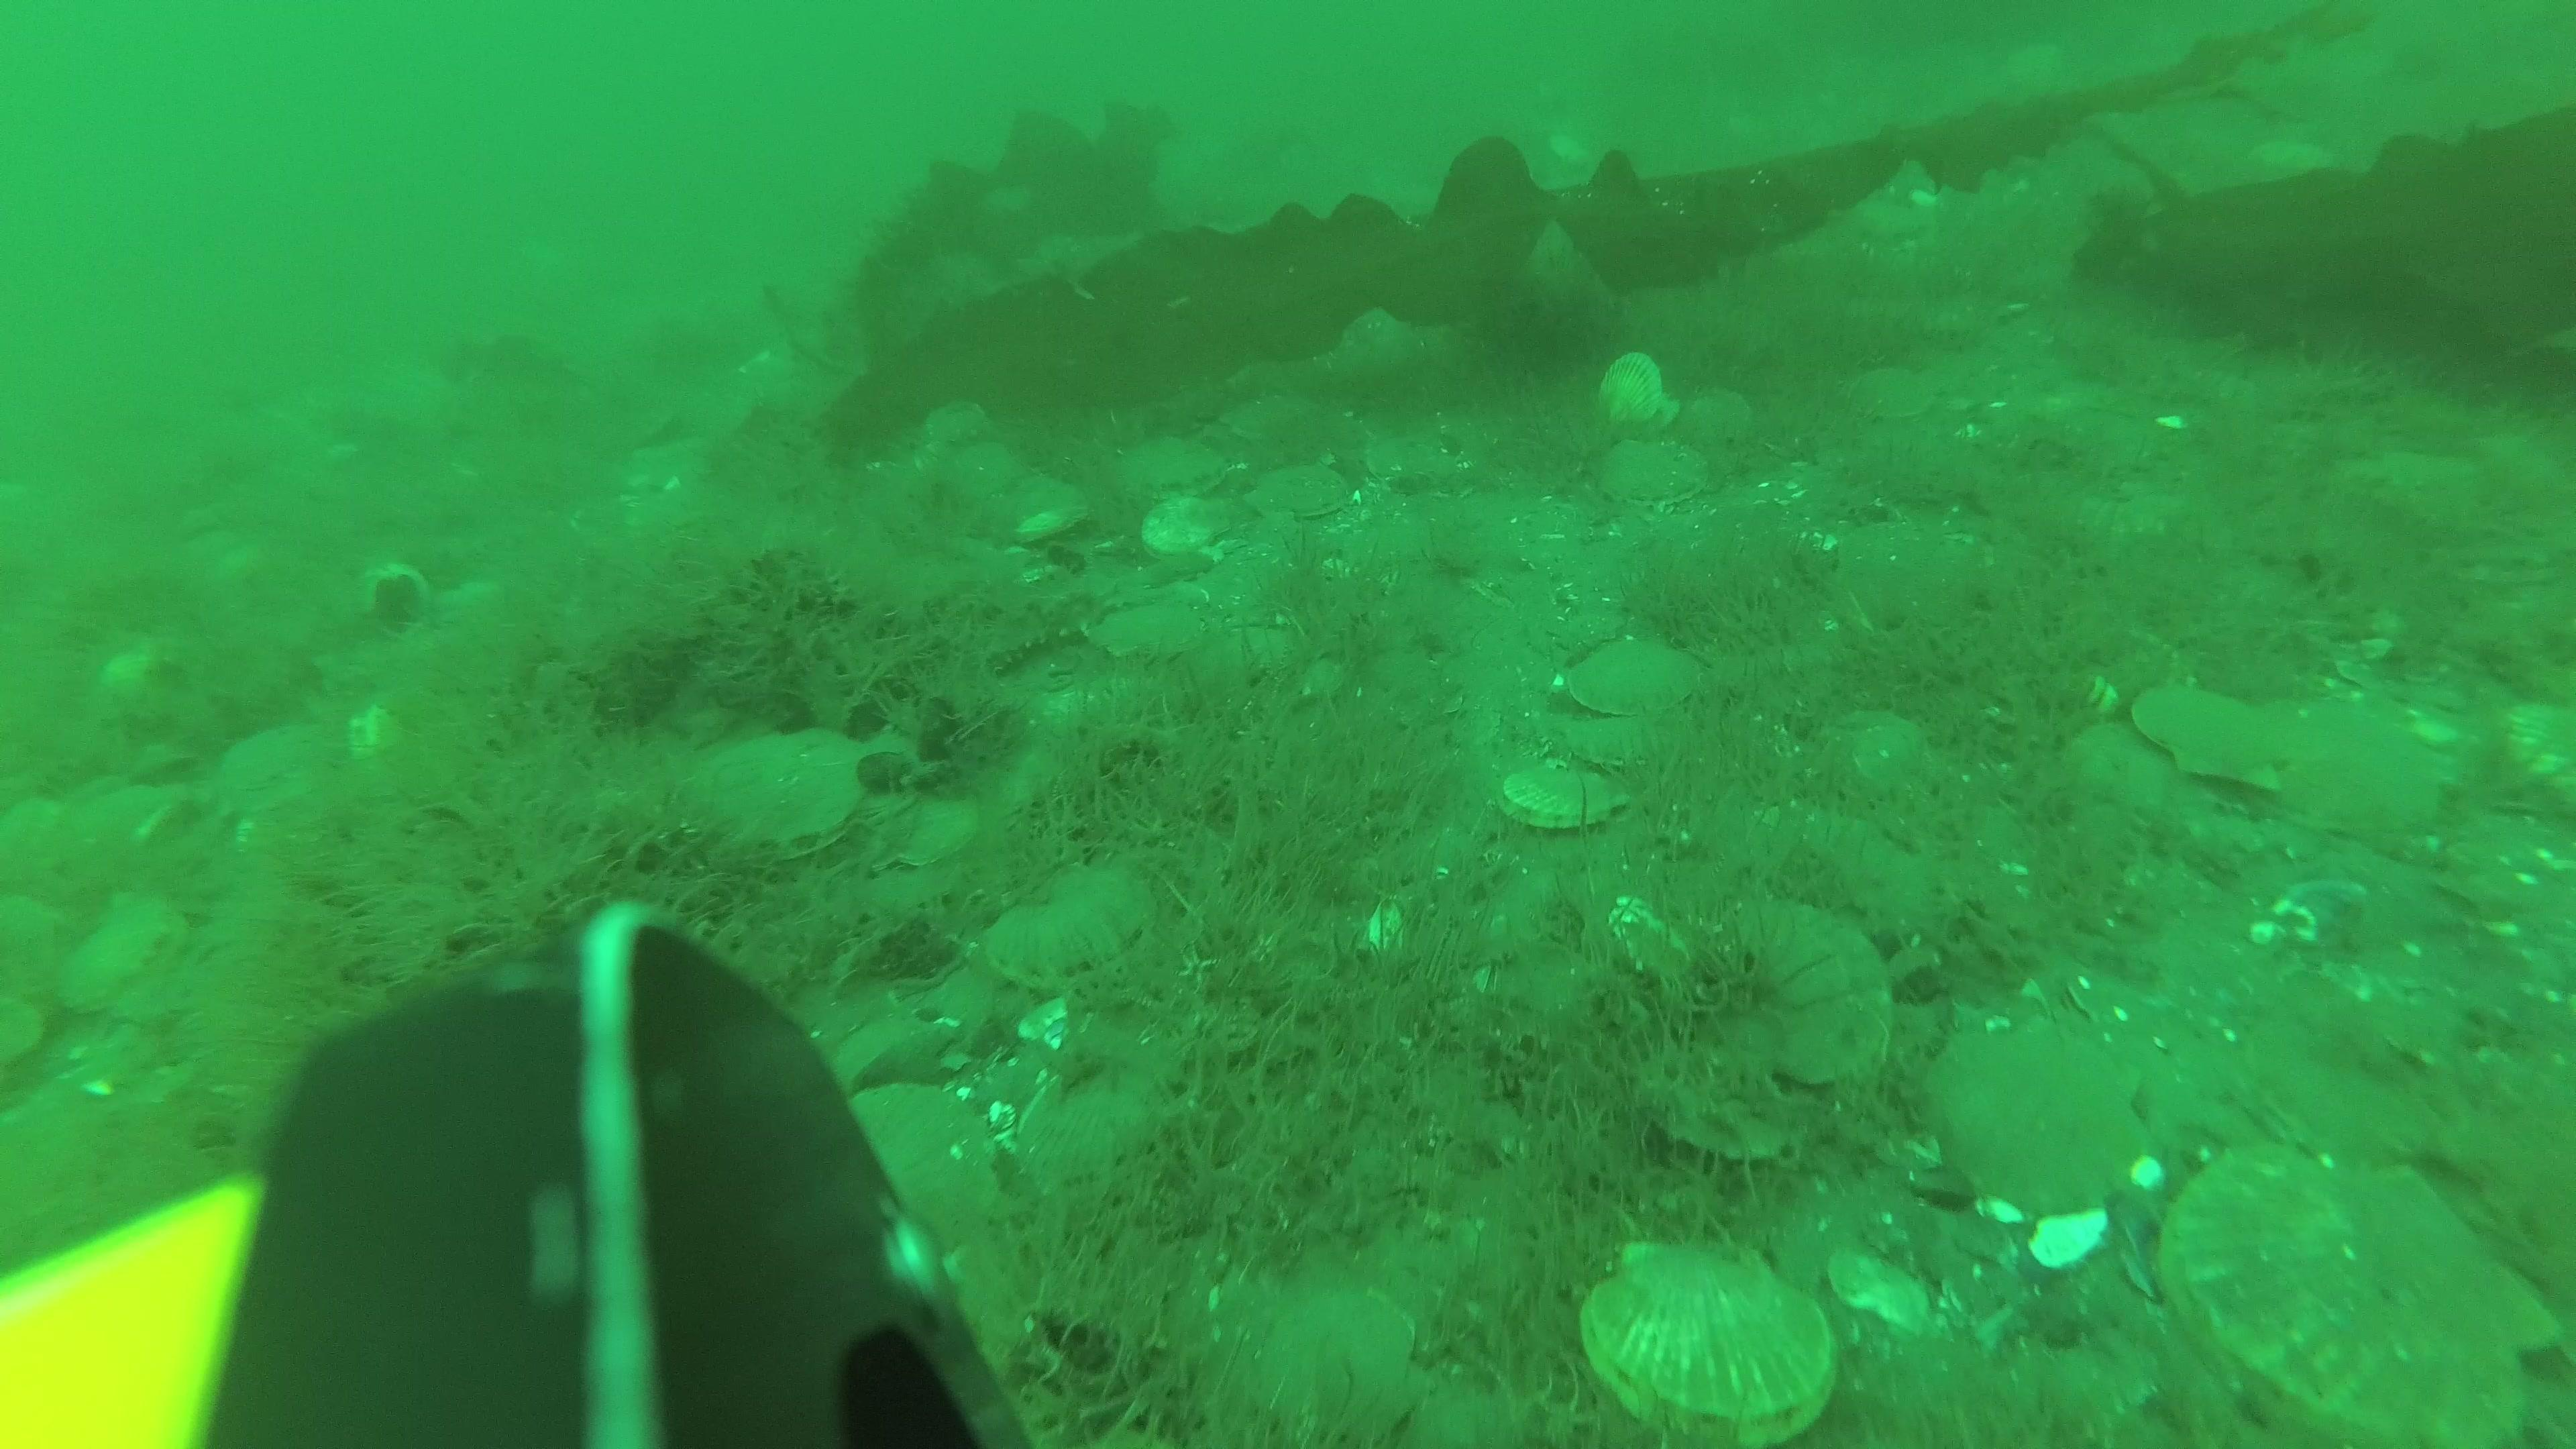holothurian: (968, 610, 1074, 678)
scallop: (2166, 1148, 2565, 1449), (1578, 1256, 1828, 1449), (1927, 1026, 2155, 1212), (1697, 892, 1900, 1095), (1210, 1256, 1414, 1437), (980, 1019, 1161, 1171), (688, 724, 872, 872), (2263, 699, 2454, 837), (849, 1090, 1000, 1260), (984, 878, 1154, 989), (2132, 683, 2302, 793), (1838, 522, 1971, 621), (2063, 725, 2201, 819), (65, 897, 179, 1000), (1568, 628, 1704, 713), (214, 724, 338, 814), (1506, 755, 1614, 851), (1587, 435, 1709, 517), (1083, 594, 1207, 667), (893, 793, 978, 883), (1555, 711, 1661, 780), (1138, 487, 1233, 557), (1253, 469, 1352, 533), (1122, 442, 1217, 504), (1599, 349, 1670, 432), (1852, 361, 1936, 426)
